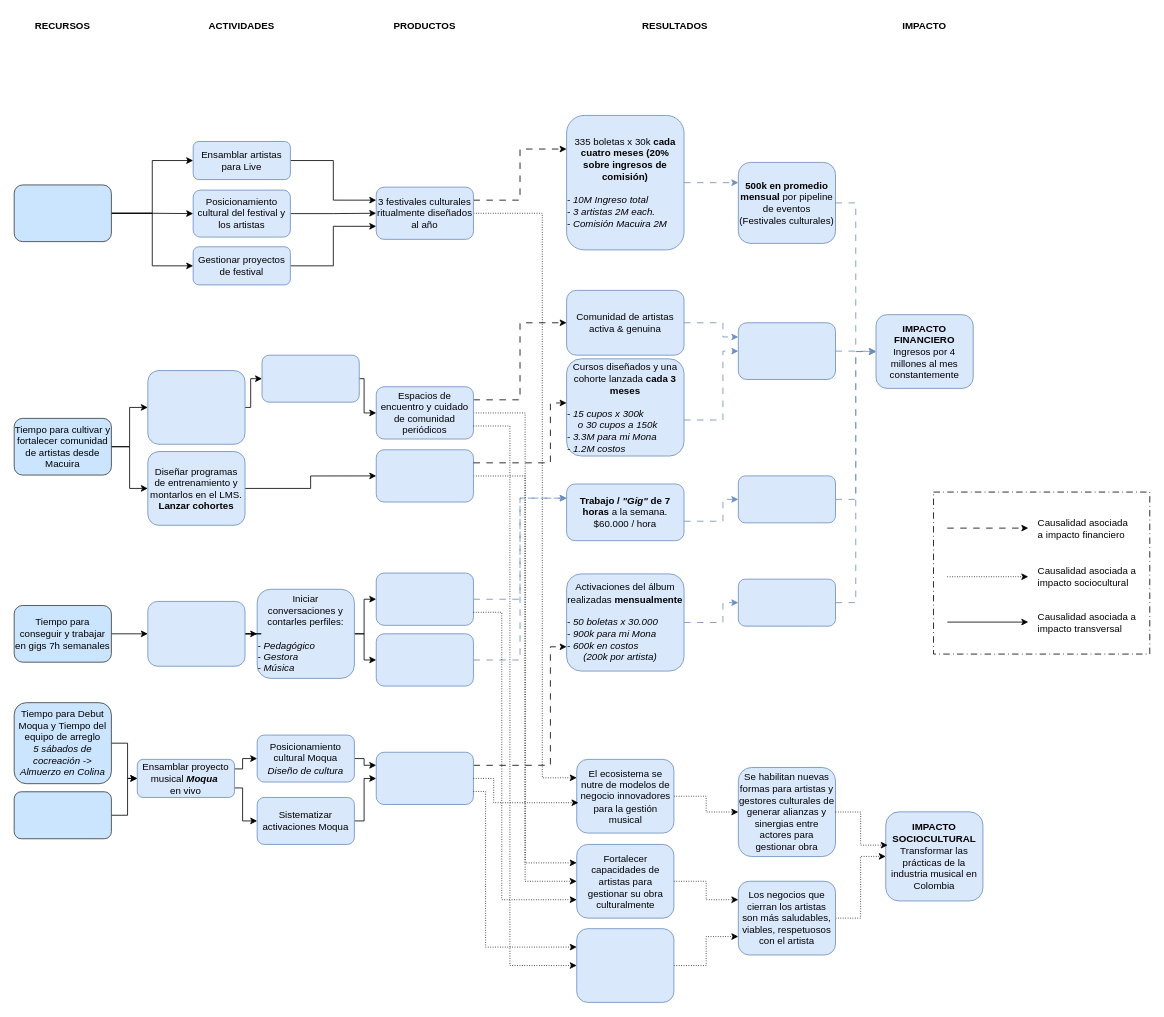
This 1164x1017 diagram has some shape labels left out. Here are the shapes that lost their labels. From the top down, the centre of each, then its label:
At pixel 62 213: "Tiempo para gestionar festivales culturales en Macuira".
At pixel 787 350: "1.1M mensual por entrenamiento de artistas".
At pixel 310 378: "Documentar espacios y post en Instagram & LinkedIn".
At pixel 196 407: "Gestionar espacios para aceitar el ecosistema local de gestión cultural musical".
At pixel 424 475: "Cohortes de entrenamientos con su LMS".
At pixel 787 499: "1.5M al mes por Gigs (trabajos adicionales)".
At pixel 424 598: "Conexiones profesionales activas y significativas".
At pixel 787 602: "900k mensual por activaciones del álbum".
At pixel 196 633: "Mapear y asistir a comunidades - Educación - Cultura".
At pixel 424 659: "Oportunidades abiertas de trabajo o gigs equivalentes".
At pixel 424 777: "1 evento mensual".
At pixel 62 815: "Ingredientes de almuerzos para financiar ensayos".
At pixel 625 965: "Modificar las creencias colectivas al rededor de la profesión musical".
